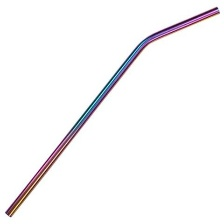drinking_straw: (1, 3, 223, 220)
